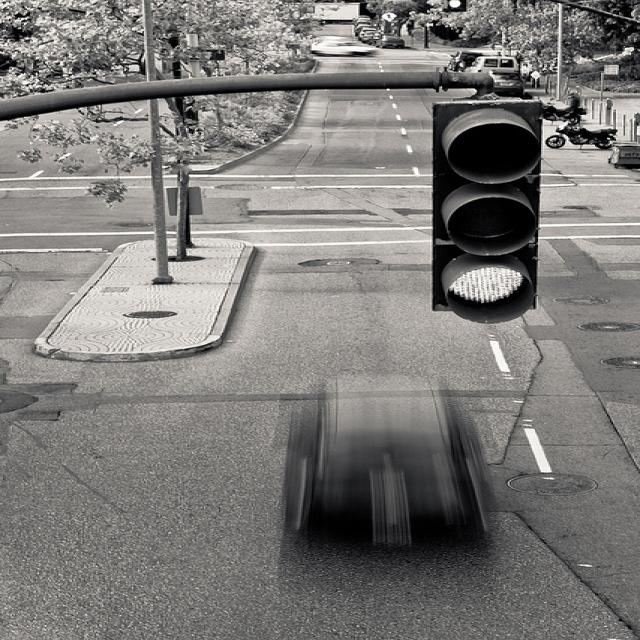motor: (547, 122, 617, 152), (541, 104, 588, 126)
